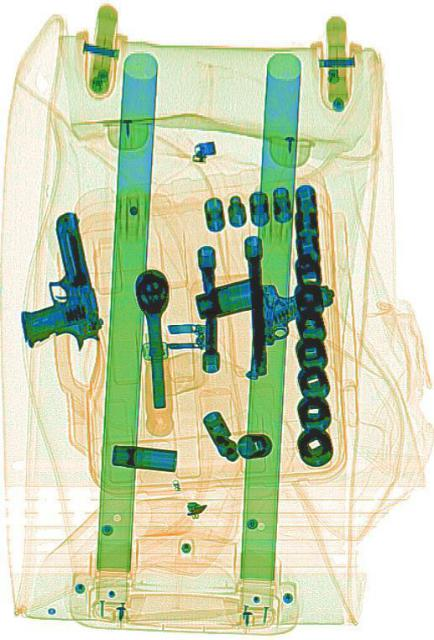Gun: (1, 206, 104, 368), (243, 271, 332, 391)
